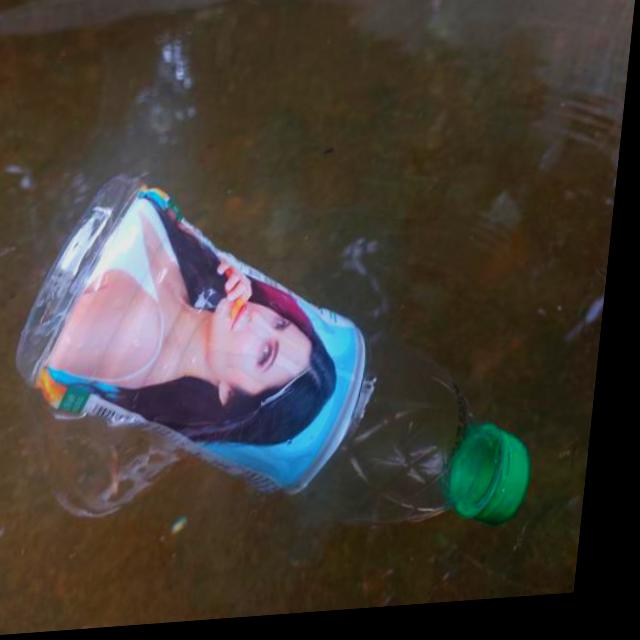waterbottle: (0, 146, 599, 596)
